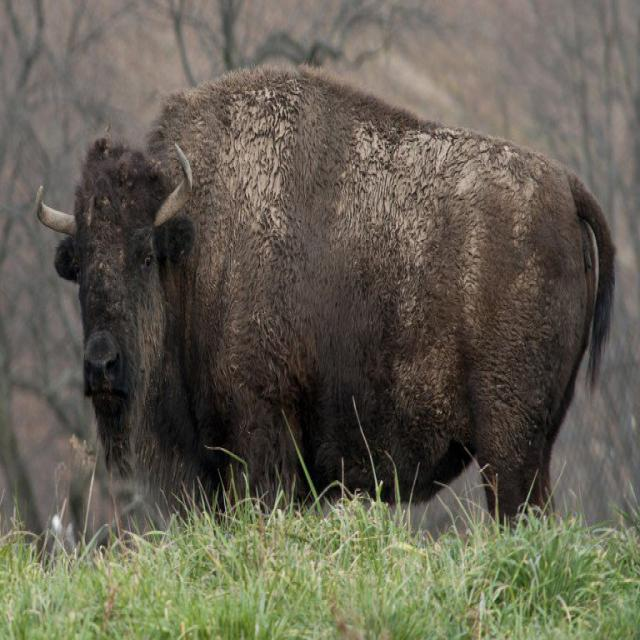Bison: (32, 65, 609, 537)
